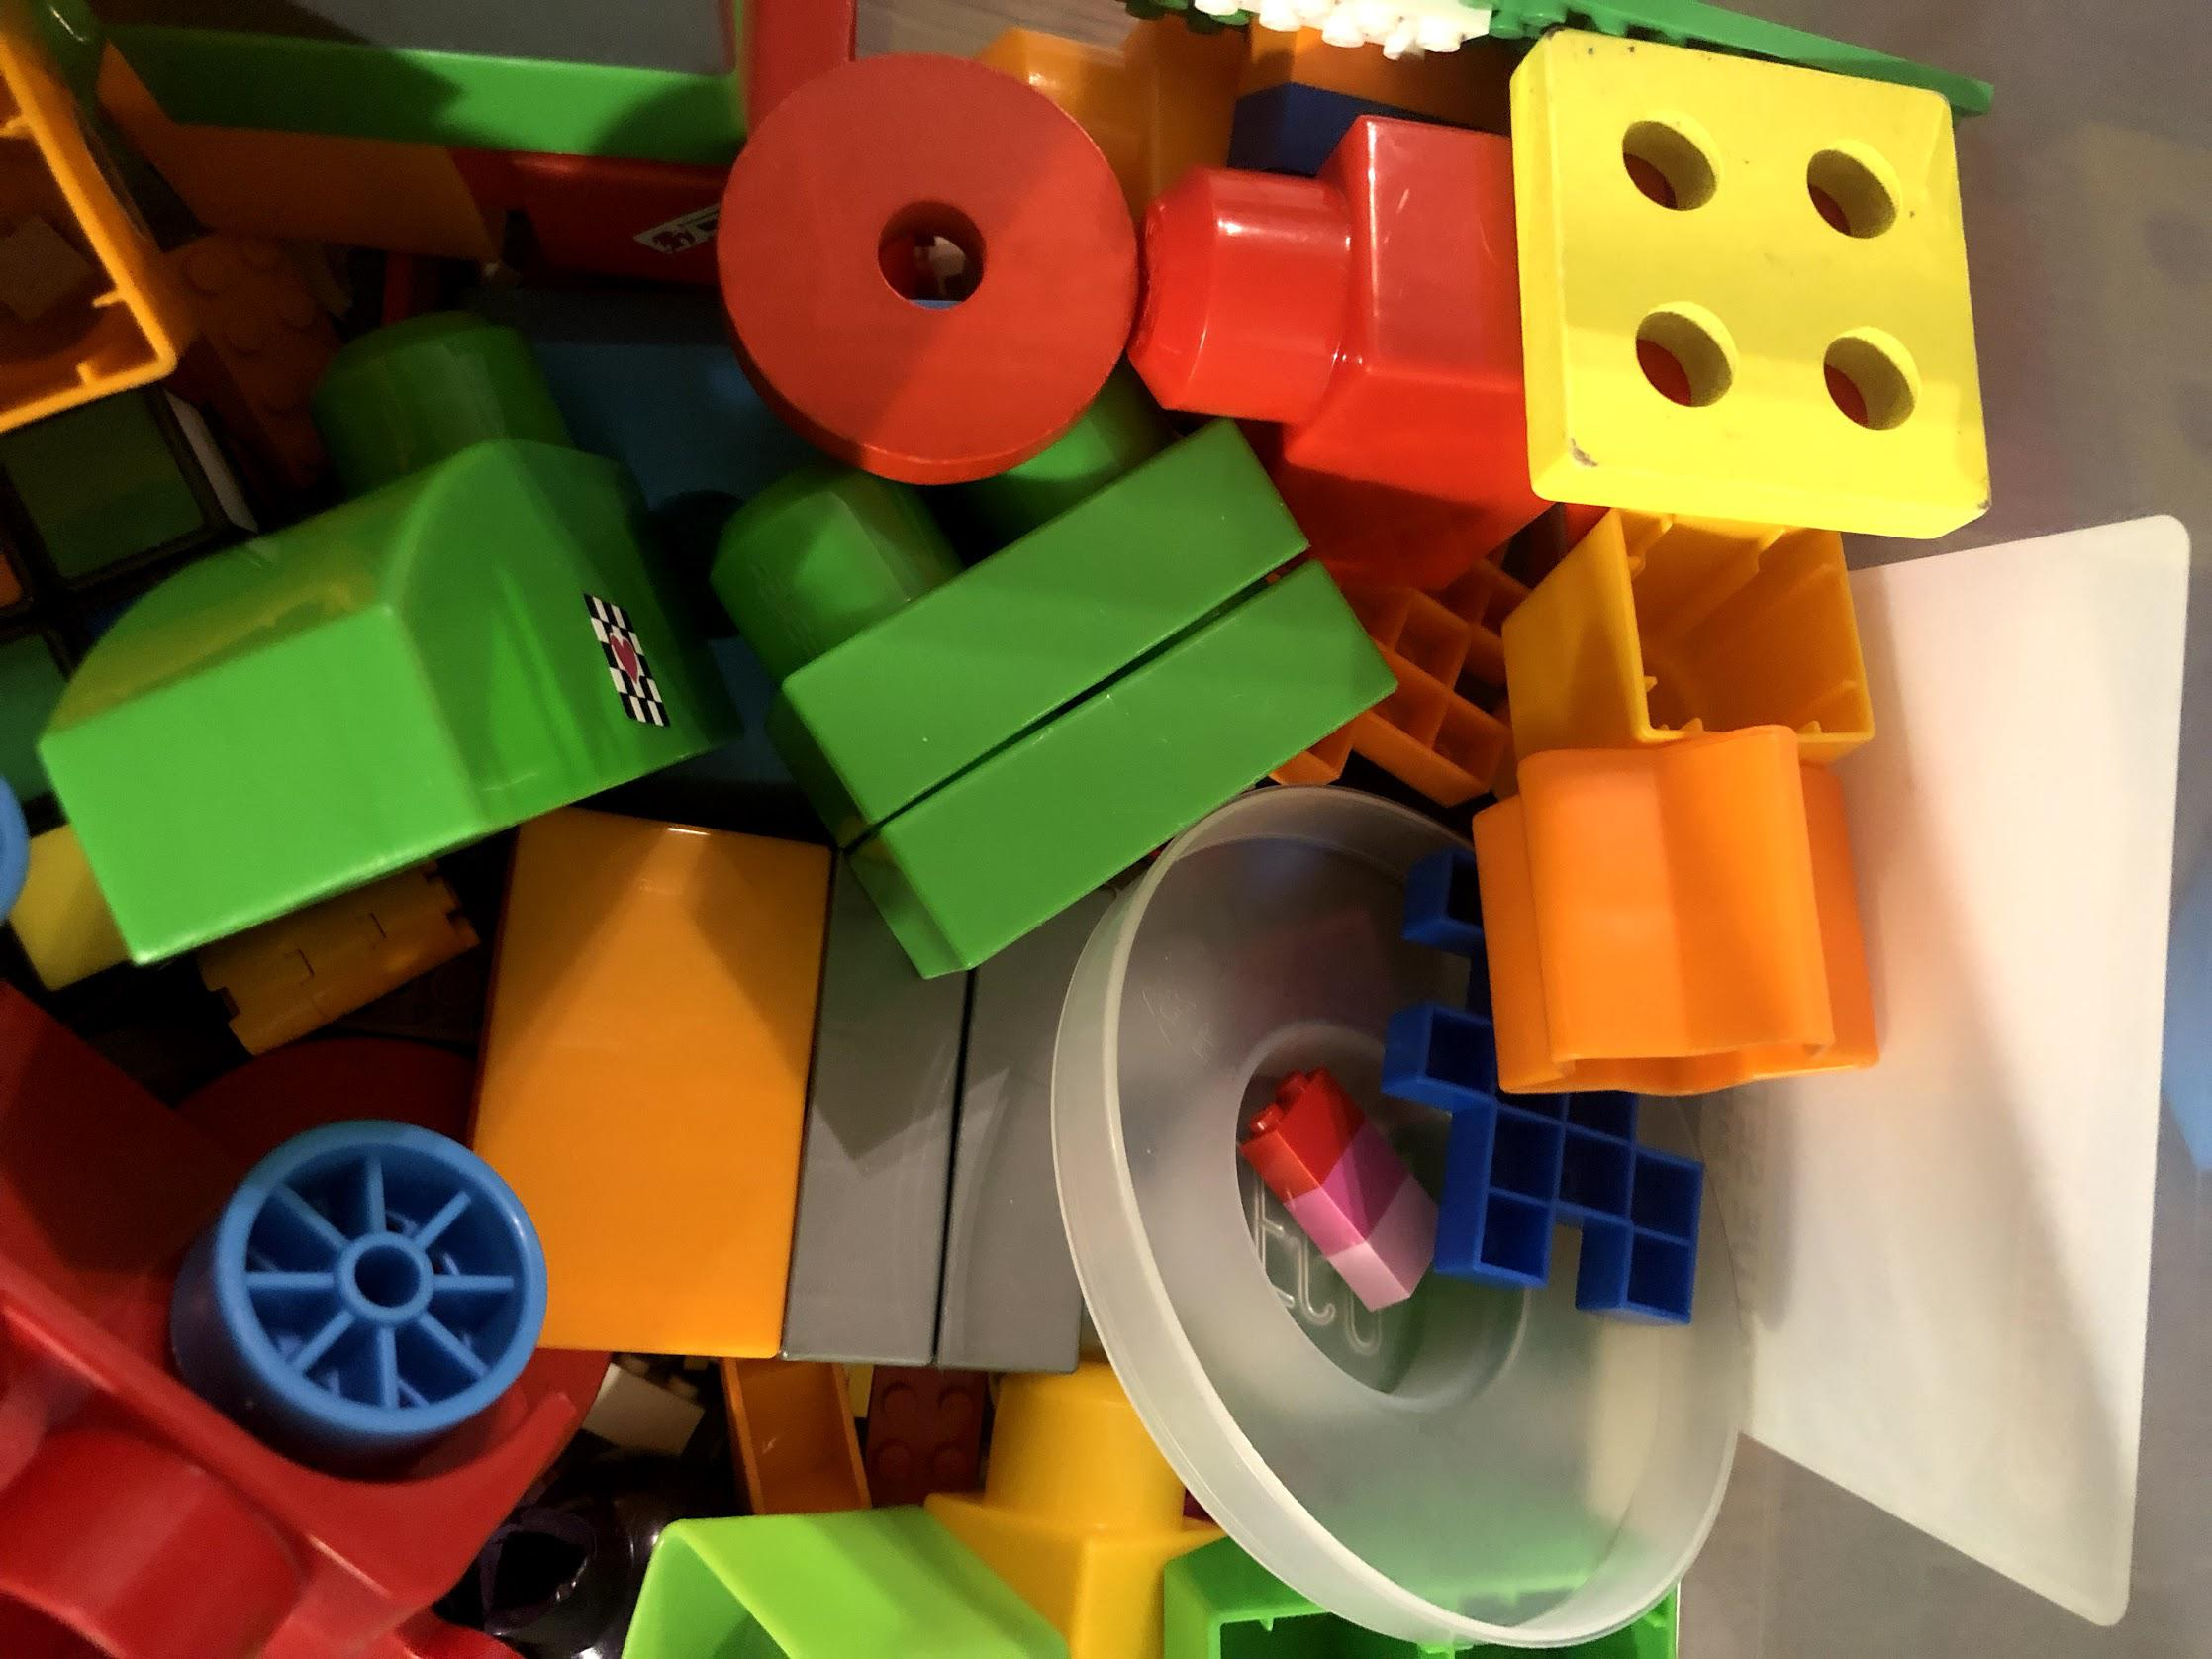Circle: (719, 47, 1132, 477)
Square: (1514, 26, 1989, 545)
